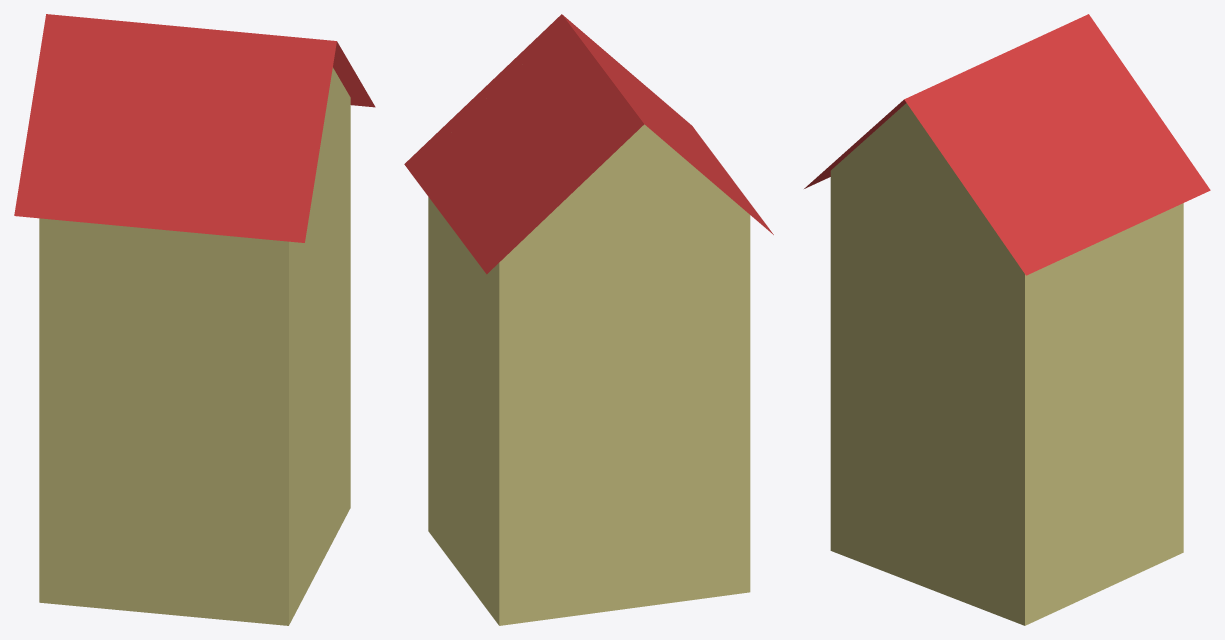
3 renders of one model, left to right at view 1: azimuth 30°, elevation 25°; view 2: azimuth 150°, elevation 25°; view 3: azimuth 270°, elevation 25°, orthographic. The views are drawn at different scales.
Bounding box in the file's own units: 5.24 × 5.27 × 7.
